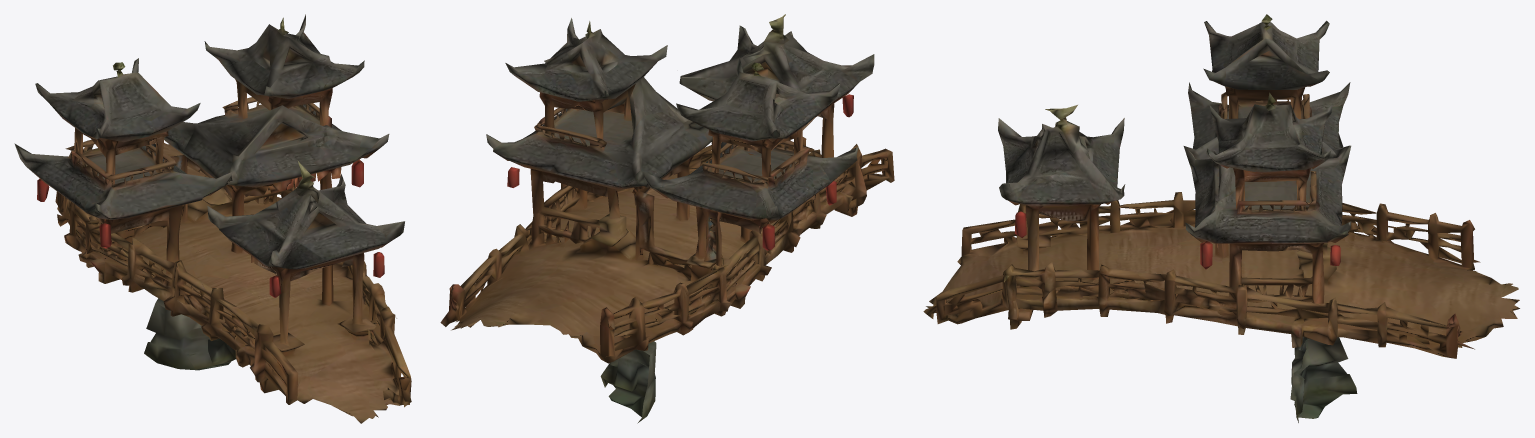
File: h_bridge.glb
The picture shows the model from 3 angles, left to right: view 1: azimuth 30°, elevation 25°; view 2: azimuth 150°, elevation 25°; view 3: azimuth 270°, elevation 25°; orthographic projection.
Visible parts, largest first — view 1: tripo_node_7a304e37-73c2-4838-9290-74718afad4ad; view 2: tripo_node_7a304e37-73c2-4838-9290-74718afad4ad; view 3: tripo_node_7a304e37-73c2-4838-9290-74718afad4ad.
Part boxes in pixels (x1=…): tripo_node_7a304e37-73c2-4838-9290-74718afad4ad: x1=14, y1=14, x2=411, y2=423; tripo_node_7a304e37-73c2-4838-9290-74718afad4ad: x1=440, y1=14, x2=894, y2=423; tripo_node_7a304e37-73c2-4838-9290-74718afad4ad: x1=923, y1=14, x2=1519, y2=422.
Bounding box in the file's own units: 0.5598 × 0.642 × 0.999.
Materials: 1 (1 with a texture image).
